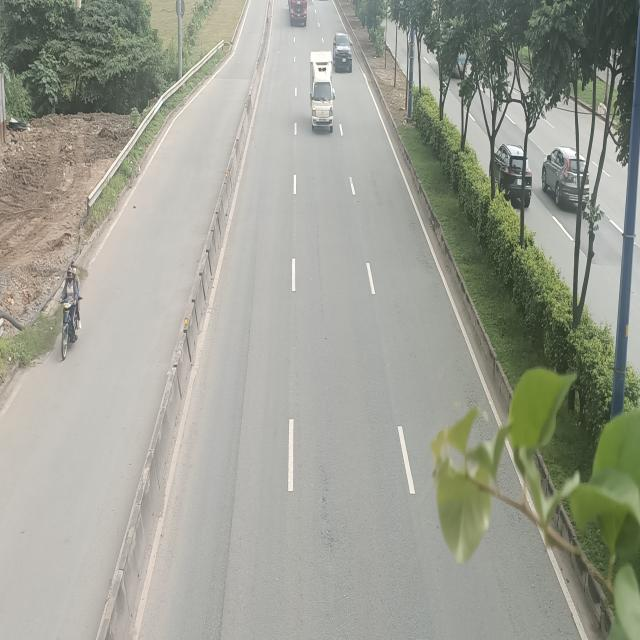car: (334, 32, 354, 71)
truck: (309, 52, 335, 132)
